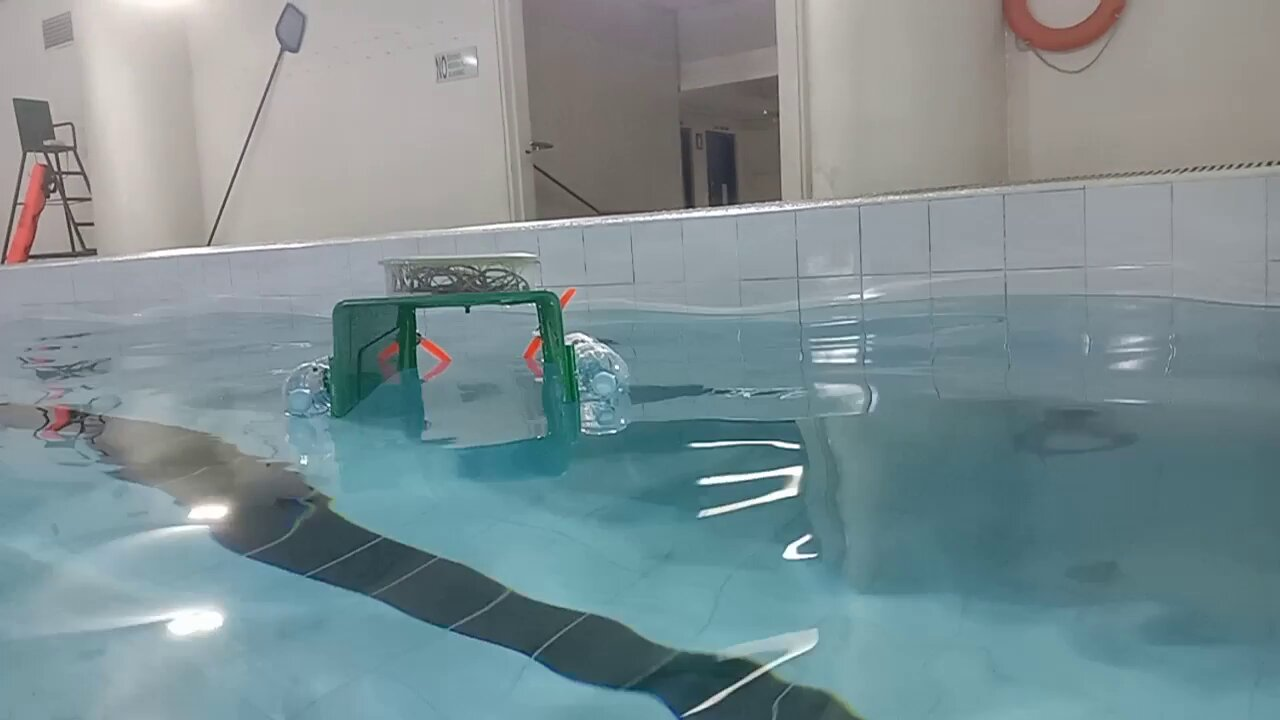drone: (281, 246, 628, 437)
